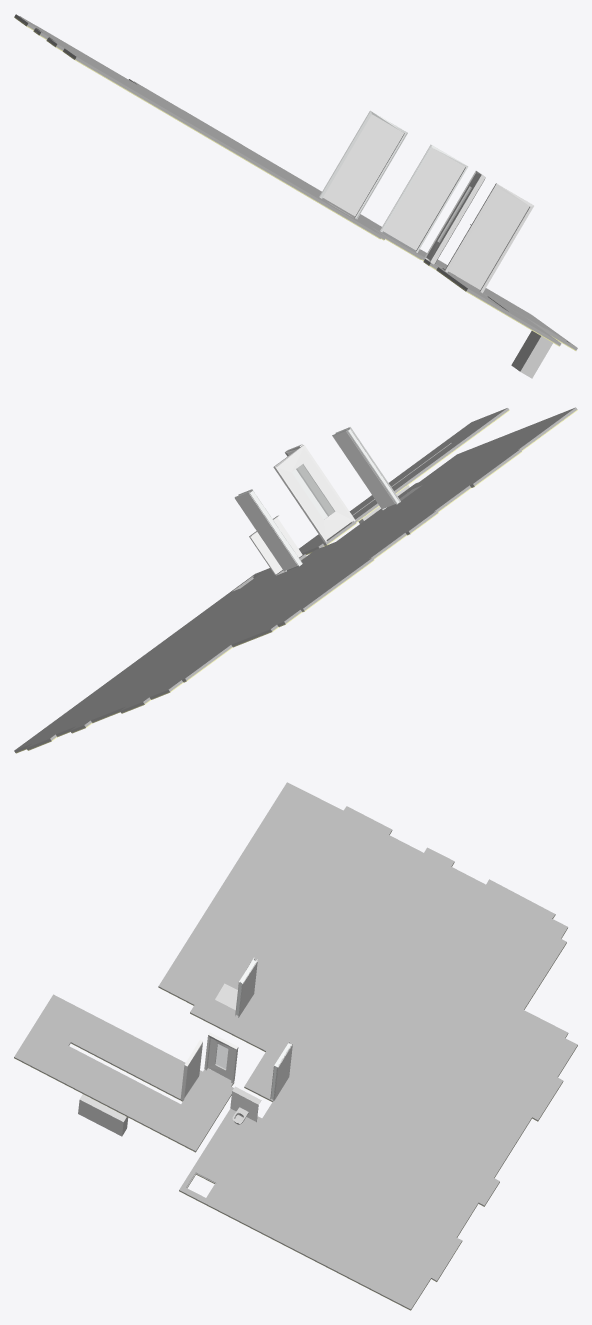
The picture shows the model from 3 angles, top to bottom: view 1: azimuth 30°, elevation 25°; view 2: azimuth 150°, elevation 25°; view 3: azimuth 270°, elevation 25°; orthographic projection. The views are drawn at different scales.
Visible parts, largest first — view 1: mesh; view 2: mesh; view 3: mesh.
Part boxes in pixels (<box>): mesh: <box>14,14,577,378</box>; mesh: <box>14,407,577,753</box>; mesh: <box>14,782,577,1310</box>.
Size of what is drawn, in the model's own units: 14.62 by 11.71 by 17.86.
